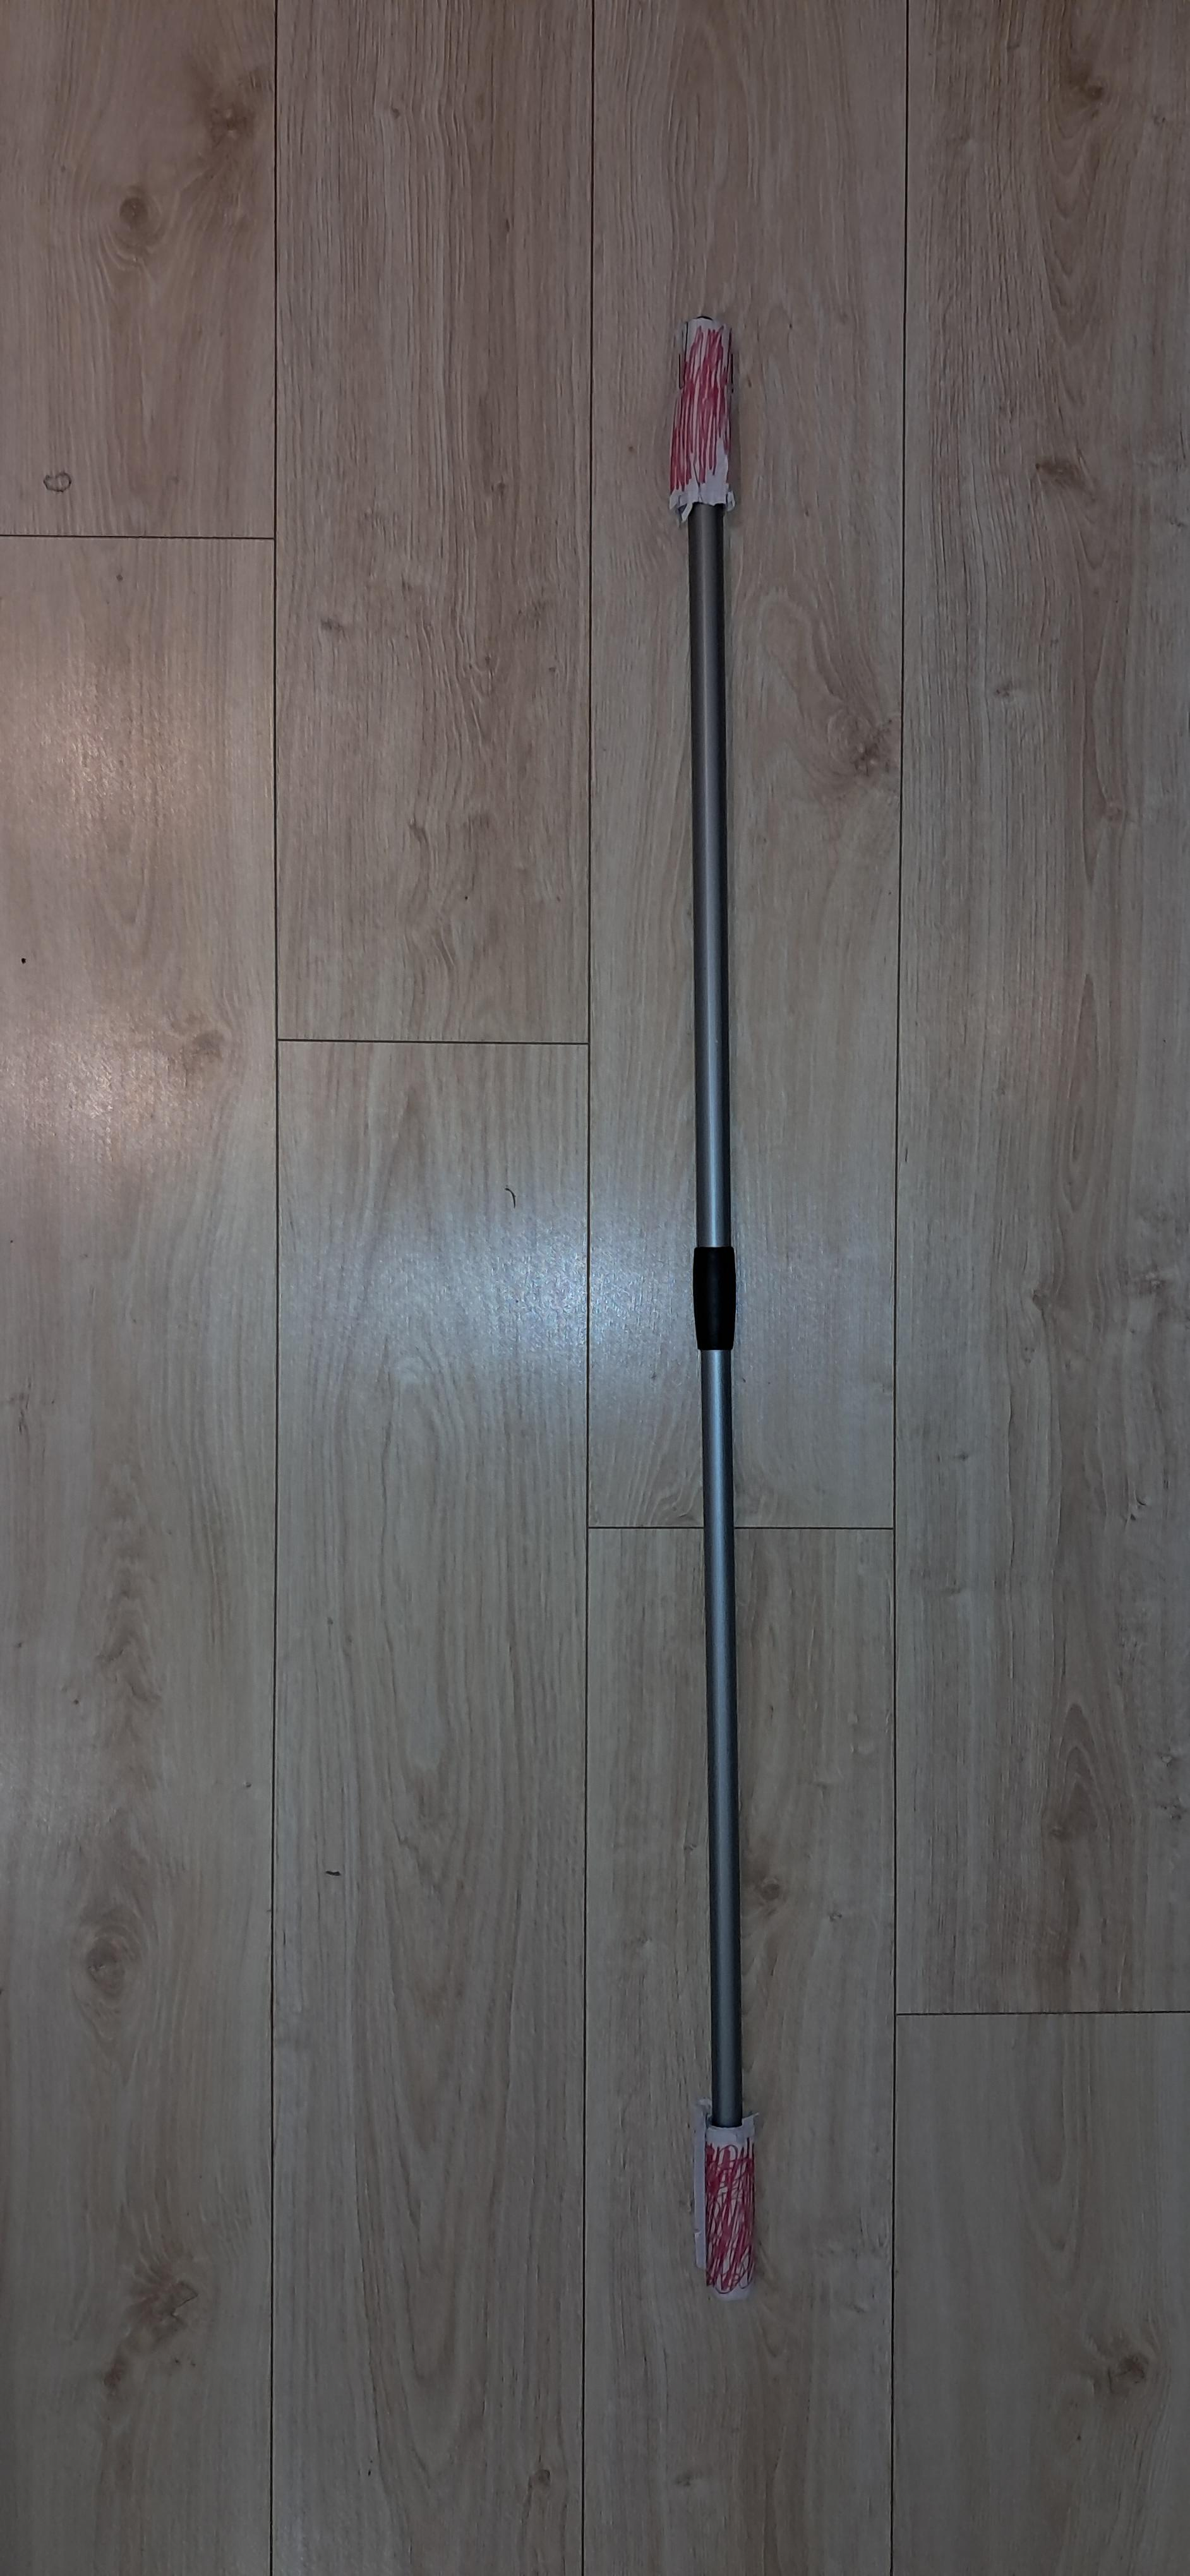broom-handle: (669, 315, 754, 2300)
